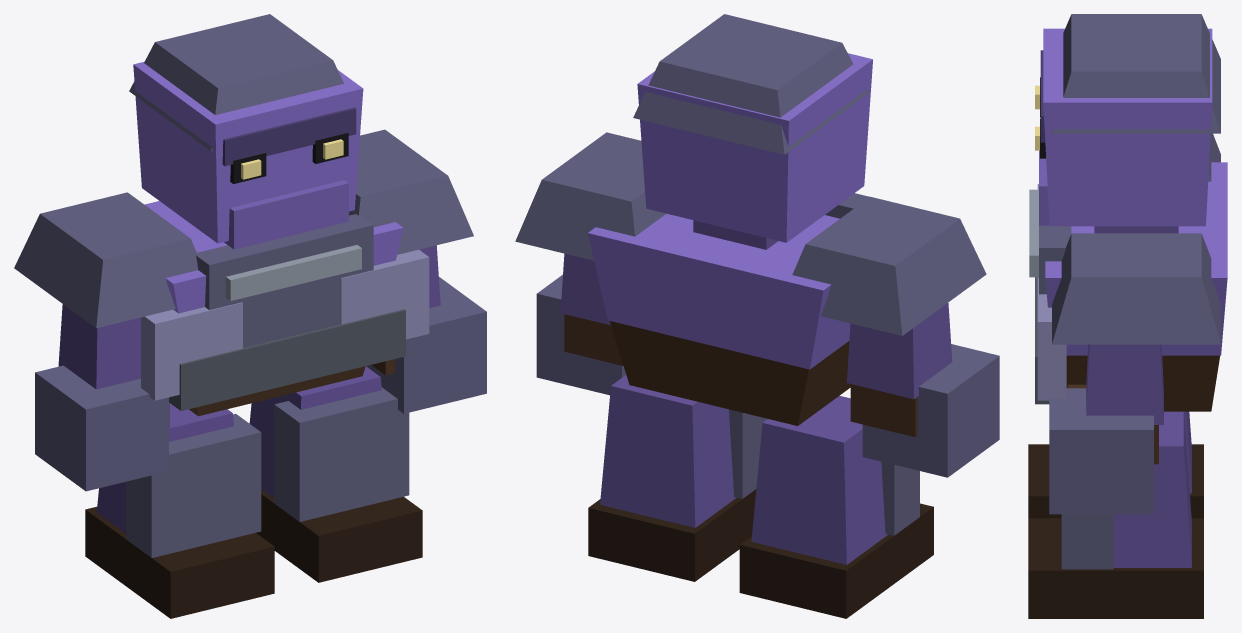
The model's file is enemy_tank.glb.
The picture shows the model from 3 angles, left to right: view 1: azimuth 30°, elevation 25°; view 2: azimuth 150°, elevation 25°; view 3: azimuth 270°, elevation 25°; orthographic projection. The views are drawn at different scales.
Parts seen in each view (by area): view 1: enemy_tank; view 2: enemy_tank; view 3: enemy_tank.
Part boxes in pixels (box(x1,y1,x2,y2)): enemy_tank: box(14, 14, 486, 618); enemy_tank: box(515, 14, 999, 618); enemy_tank: box(1028, 14, 1227, 618).
Size of the model in its own units: 0.82 by 0.9741 by 0.343.
